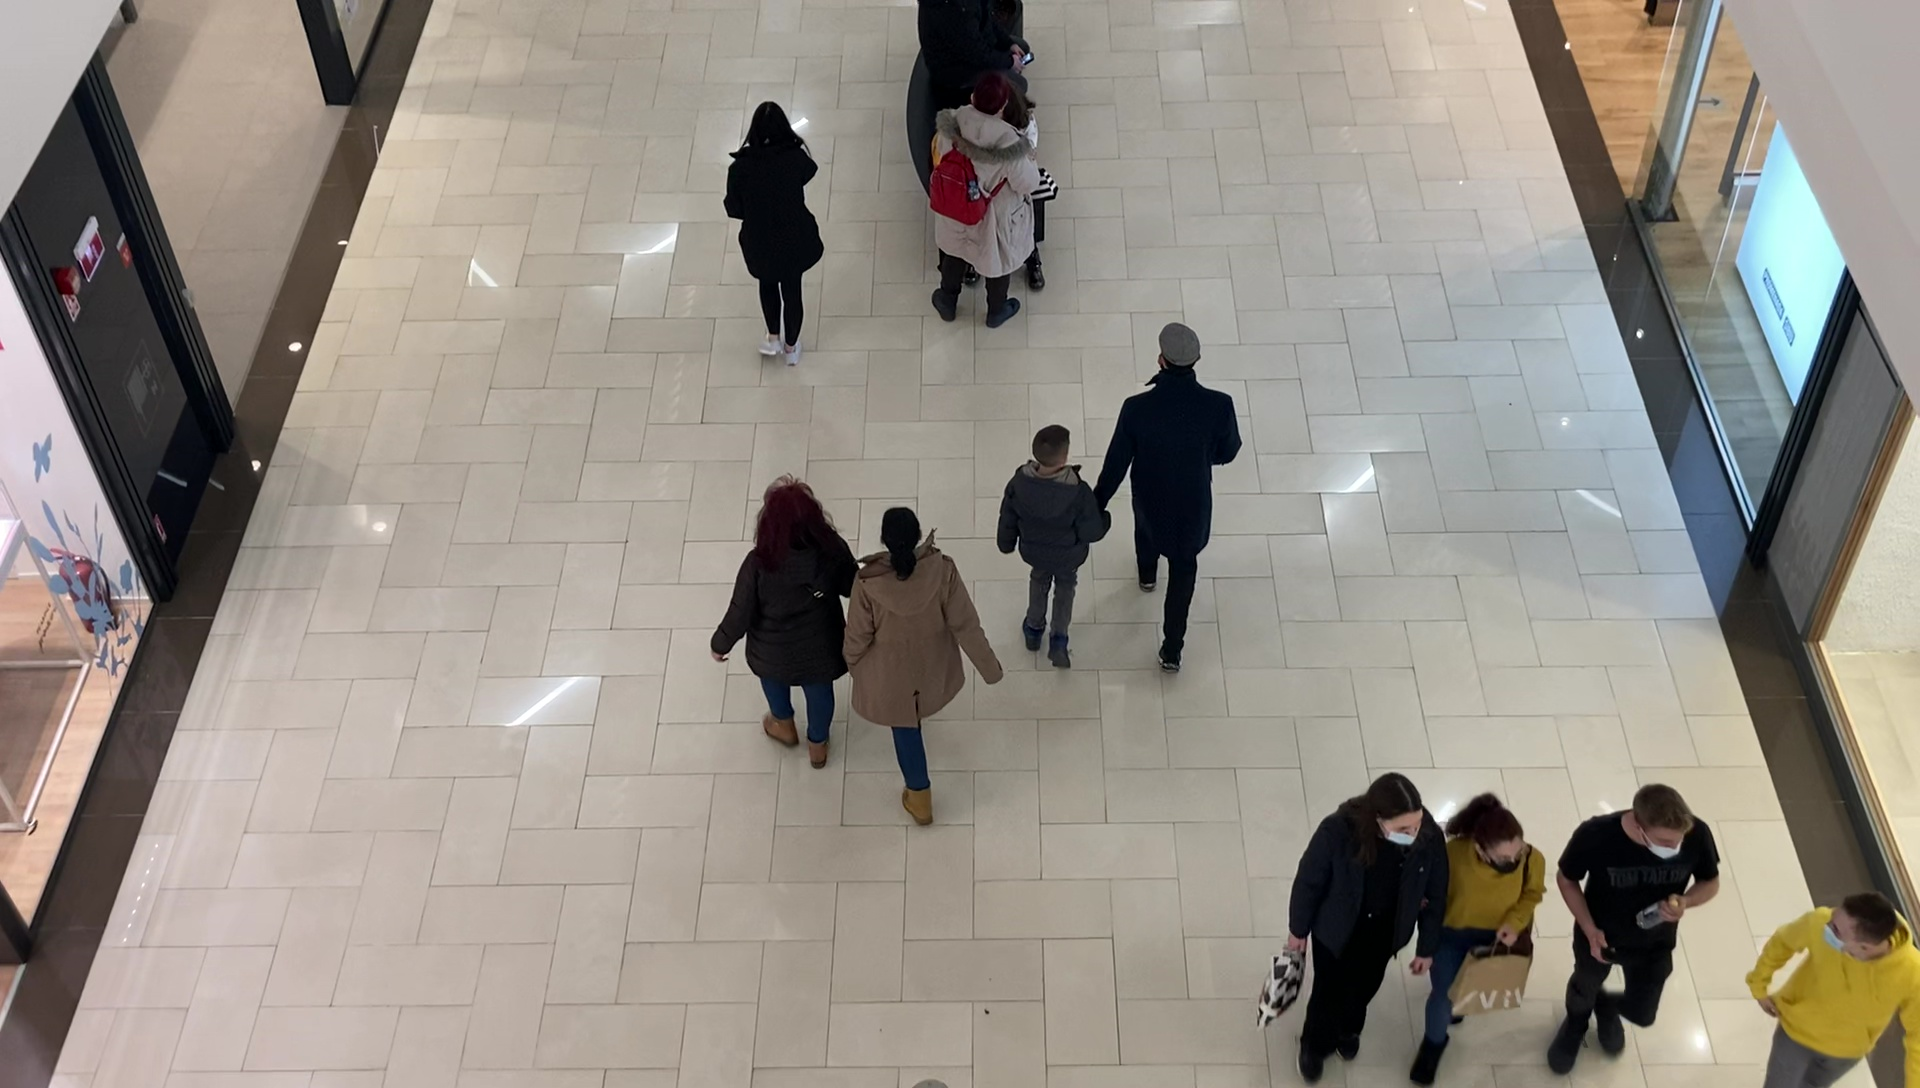person: (1096, 324, 1244, 674), (842, 506, 1001, 826), (1287, 773, 1448, 1087), (1555, 784, 1721, 1073), (710, 479, 855, 772), (1417, 787, 1547, 1083), (1744, 894, 1920, 1088), (996, 425, 1110, 669), (723, 100, 824, 366)
